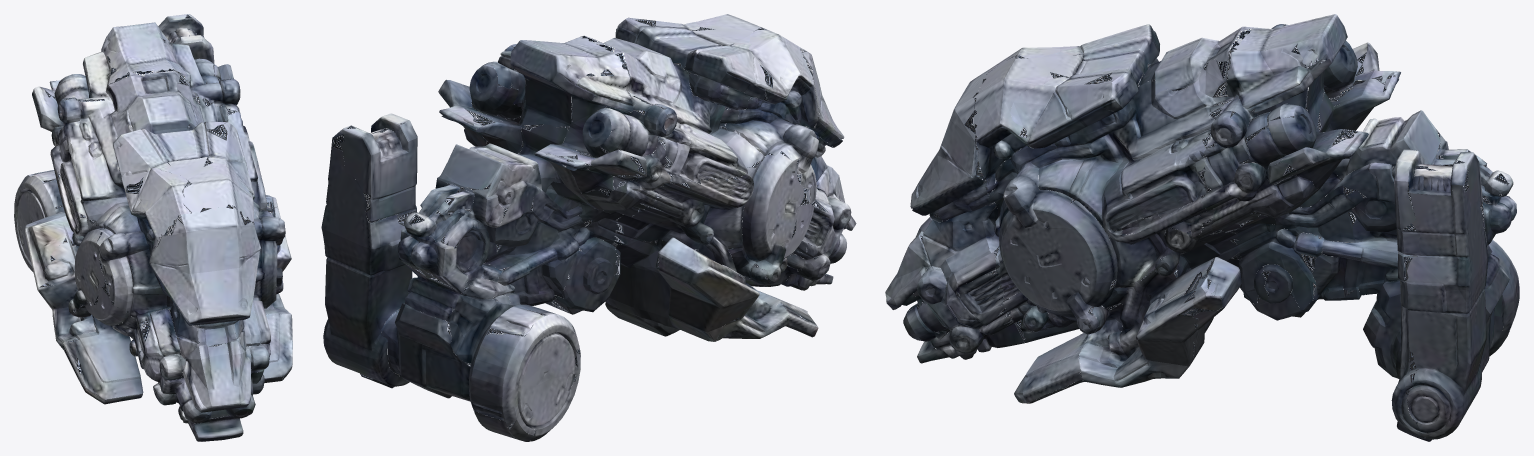
The model's file is HL_WPN_GrayModules_01.glb.
The picture shows the model from 3 angles, left to right: view 1: azimuth 30°, elevation 25°; view 2: azimuth 150°, elevation 25°; view 3: azimuth 270°, elevation 25°; orthographic projection. The views are drawn at different scales.
Parts seen in each view (by area): view 1: meshes[0]; view 2: meshes[0]; view 3: meshes[0].
Boxes of the visible parts, left/top/right/bottom form: meshes[0]: left=14, top=14, right=292, bottom=441; meshes[0]: left=321, top=14, right=856, bottom=441; meshes[0]: left=885, top=14, right=1519, bottom=441.
Bounding box in the file's own units: 0.2244 × 0.2278 × 0.3524.
1 material, 1 textured.
